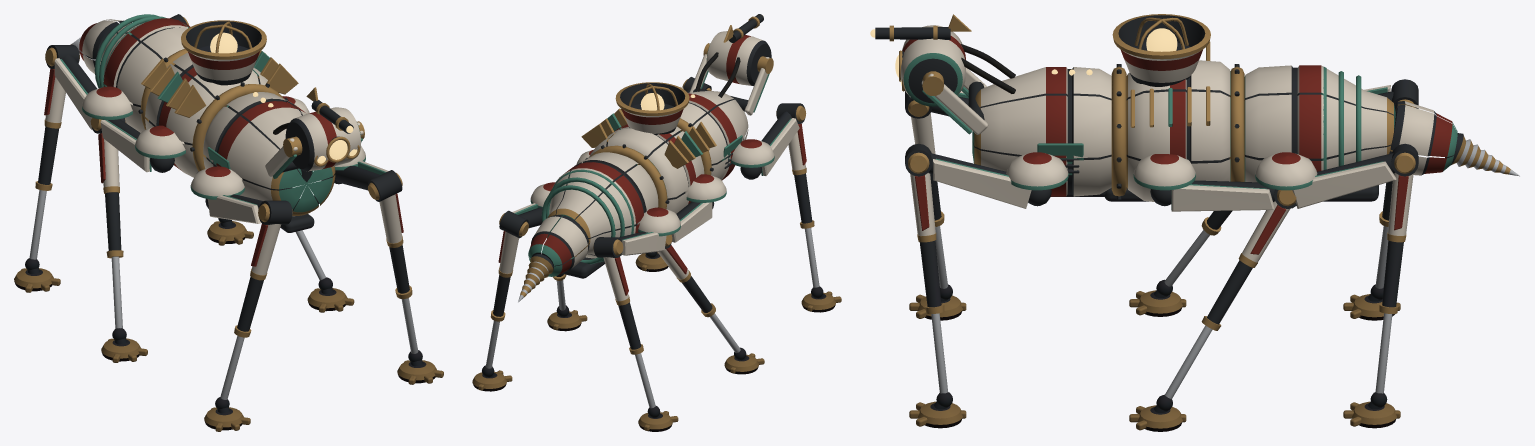
File: tiller.glb
The picture shows the model from 3 angles, left to right: view 1: azimuth 30°, elevation 25°; view 2: azimuth 150°, elevation 25°; view 3: azimuth 270°, elevation 25°; orthographic projection. The views are drawn at different scales.
Parts seen in each view (by area): view 1: tiller-hull, tiller-sensor; view 2: tiller-hull; view 3: tiller-hull, tiller-sensor.
Boxes of the visible parts, left/top/right/bottom form: tiller-hull: left=14, top=14, right=443, bottom=431; tiller-sensor: left=210, top=32, right=357, bottom=163; tiller-hull: left=472, top=14, right=841, bottom=431; tiller-hull: left=875, top=14, right=1519, bottom=431; tiller-sensor: left=870, top=28, right=1177, bottom=85.
Size of the model in its own units: 2.2 by 2.68 by 4.49.
